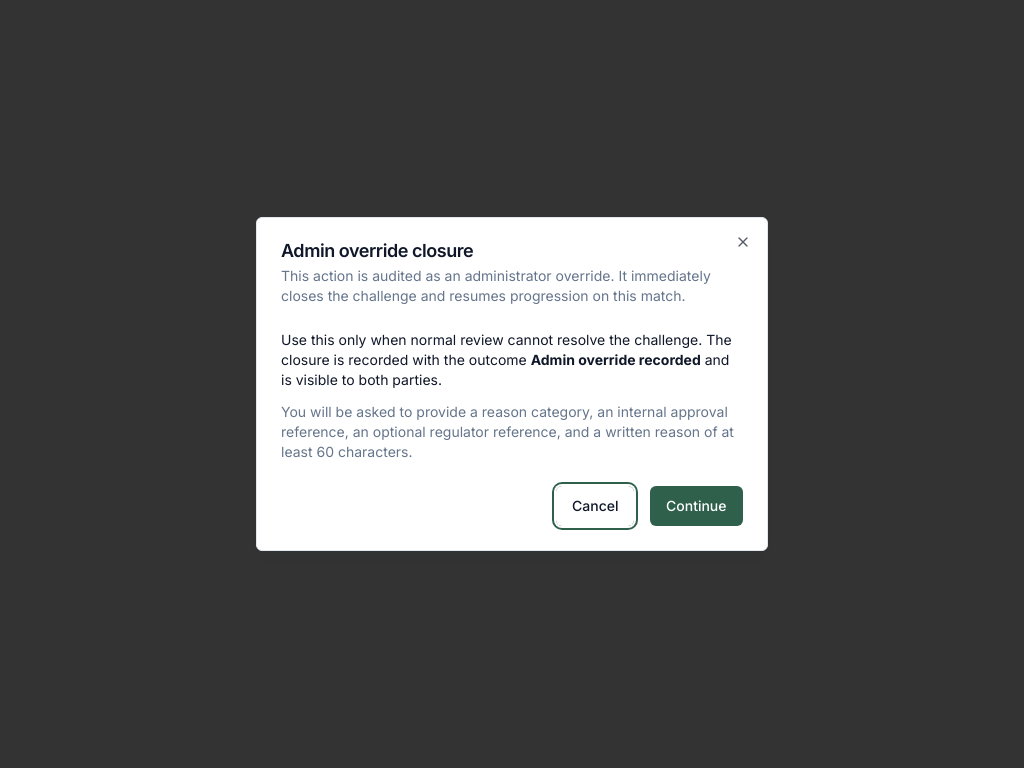
AdminOverrideDialog — B4/B5/B7 › B4: reason <60 chars blocks submit, no network call
Click the button with test id "override-continue-button" at (697, 506), box x1=650 y1=486 x2=743 y2=526
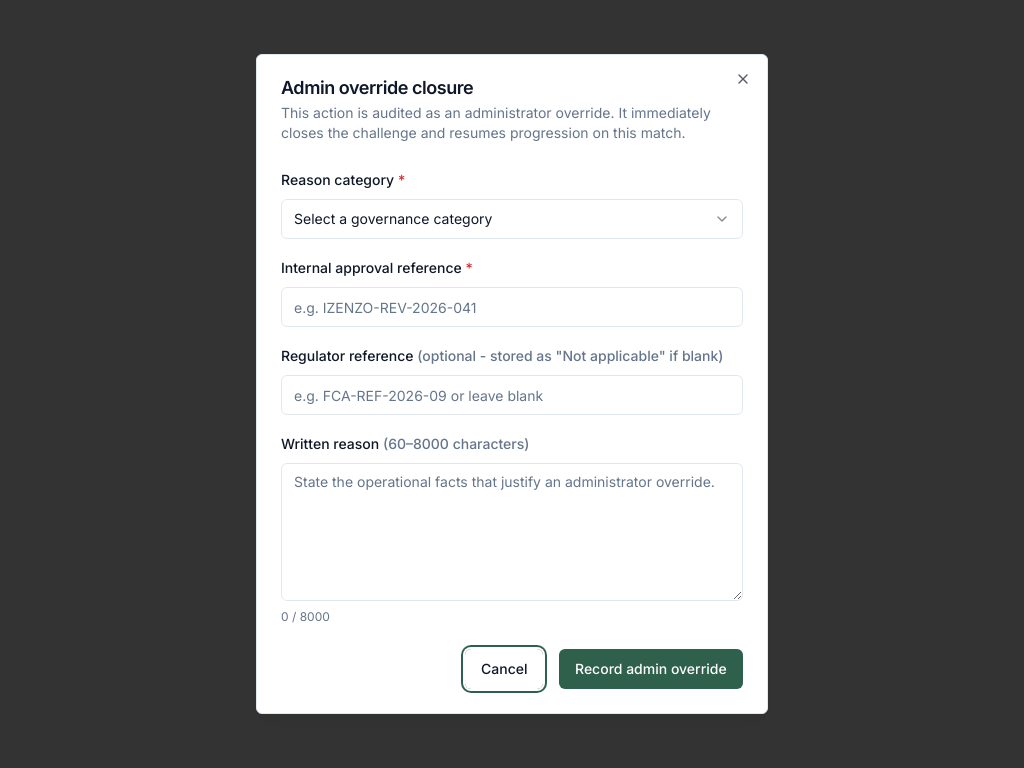
Check: the text box with test id "override-reason-input" is shown
Replace the text in the text box with test id "override-reason-input" with "too short" at (512, 532), box x1=281 y1=463 x2=743 y2=601
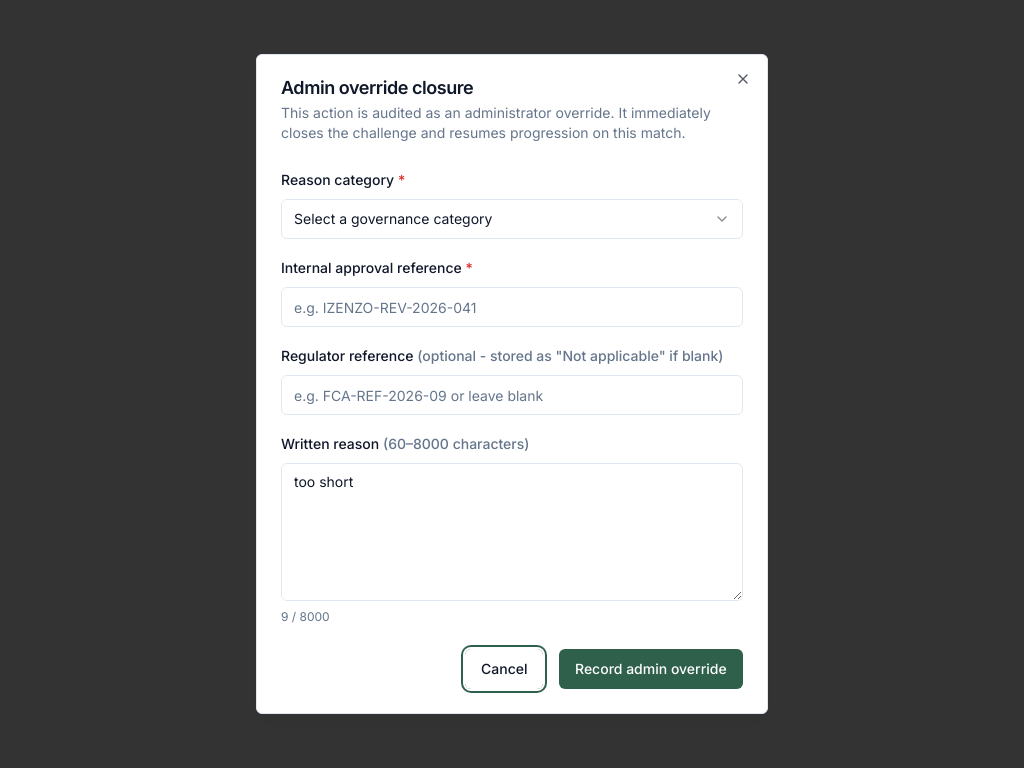
Click the button with test id "override-submit-button" at (651, 669), box x1=559 y1=649 x2=743 y2=689
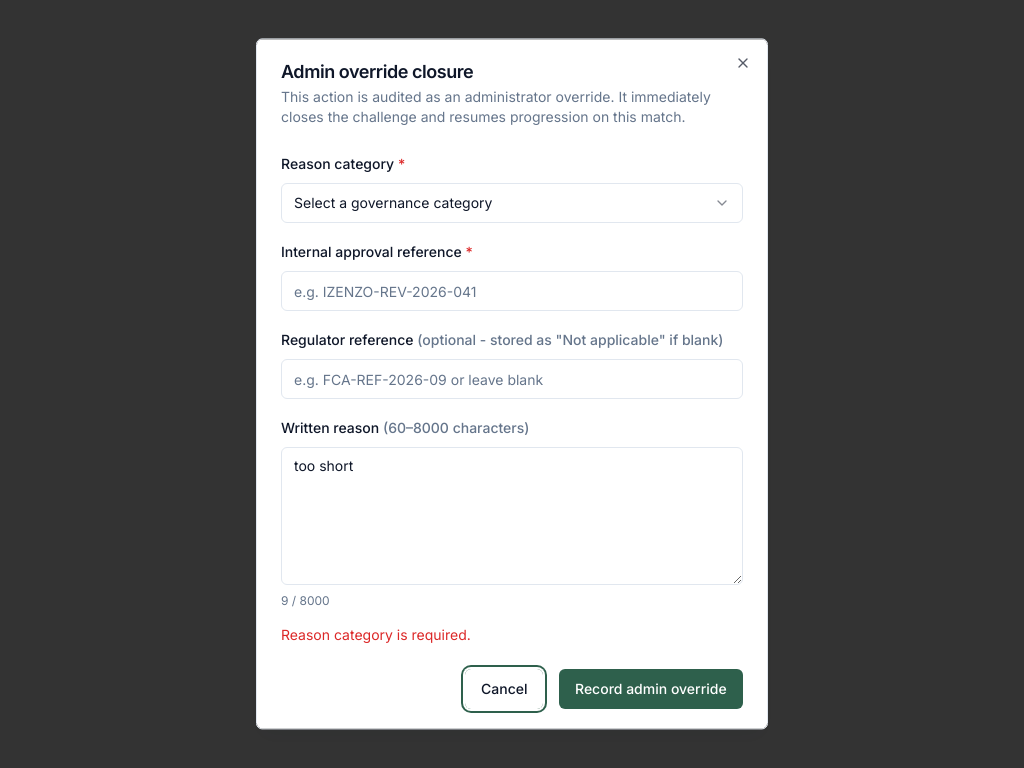
Check: the message "Reason category is required." is shown, box x1=281 y1=626 x2=471 y2=643
